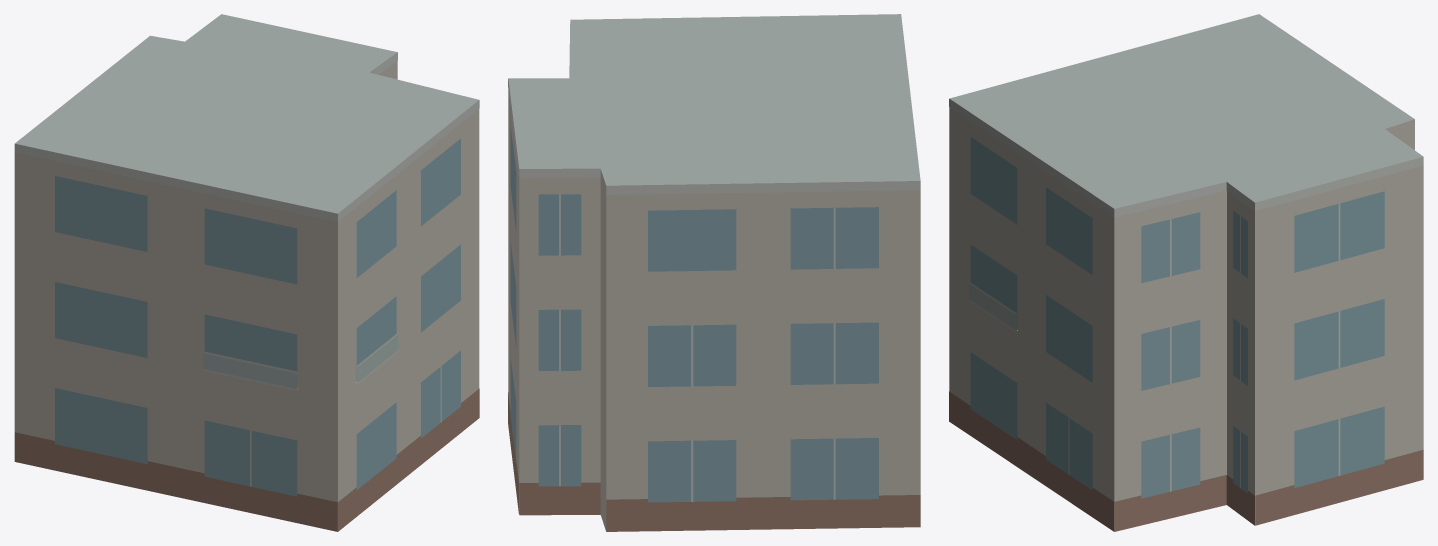
Rendered from survey-upis-32790378.glb.
The picture shows the model from 3 angles, left to right: view 1: azimuth 30°, elevation 25°; view 2: azimuth 150°, elevation 25°; view 3: azimuth 270°, elevation 25°; orthographic projection. The views are drawn at different scales.
Parts seen in each view (by area): view 1: survey-upis-32790378.tmp; view 2: survey-upis-32790378.tmp; view 3: survey-upis-32790378.tmp.
Part boxes in pixels (x1,y1,x2,y2): survey-upis-32790378.tmp: (14,14,479,531); survey-upis-32790378.tmp: (508,14,920,531); survey-upis-32790378.tmp: (949,14,1423,531).
Bounding box in the file's own units: 11.85 × 9.15 × 12.19.
